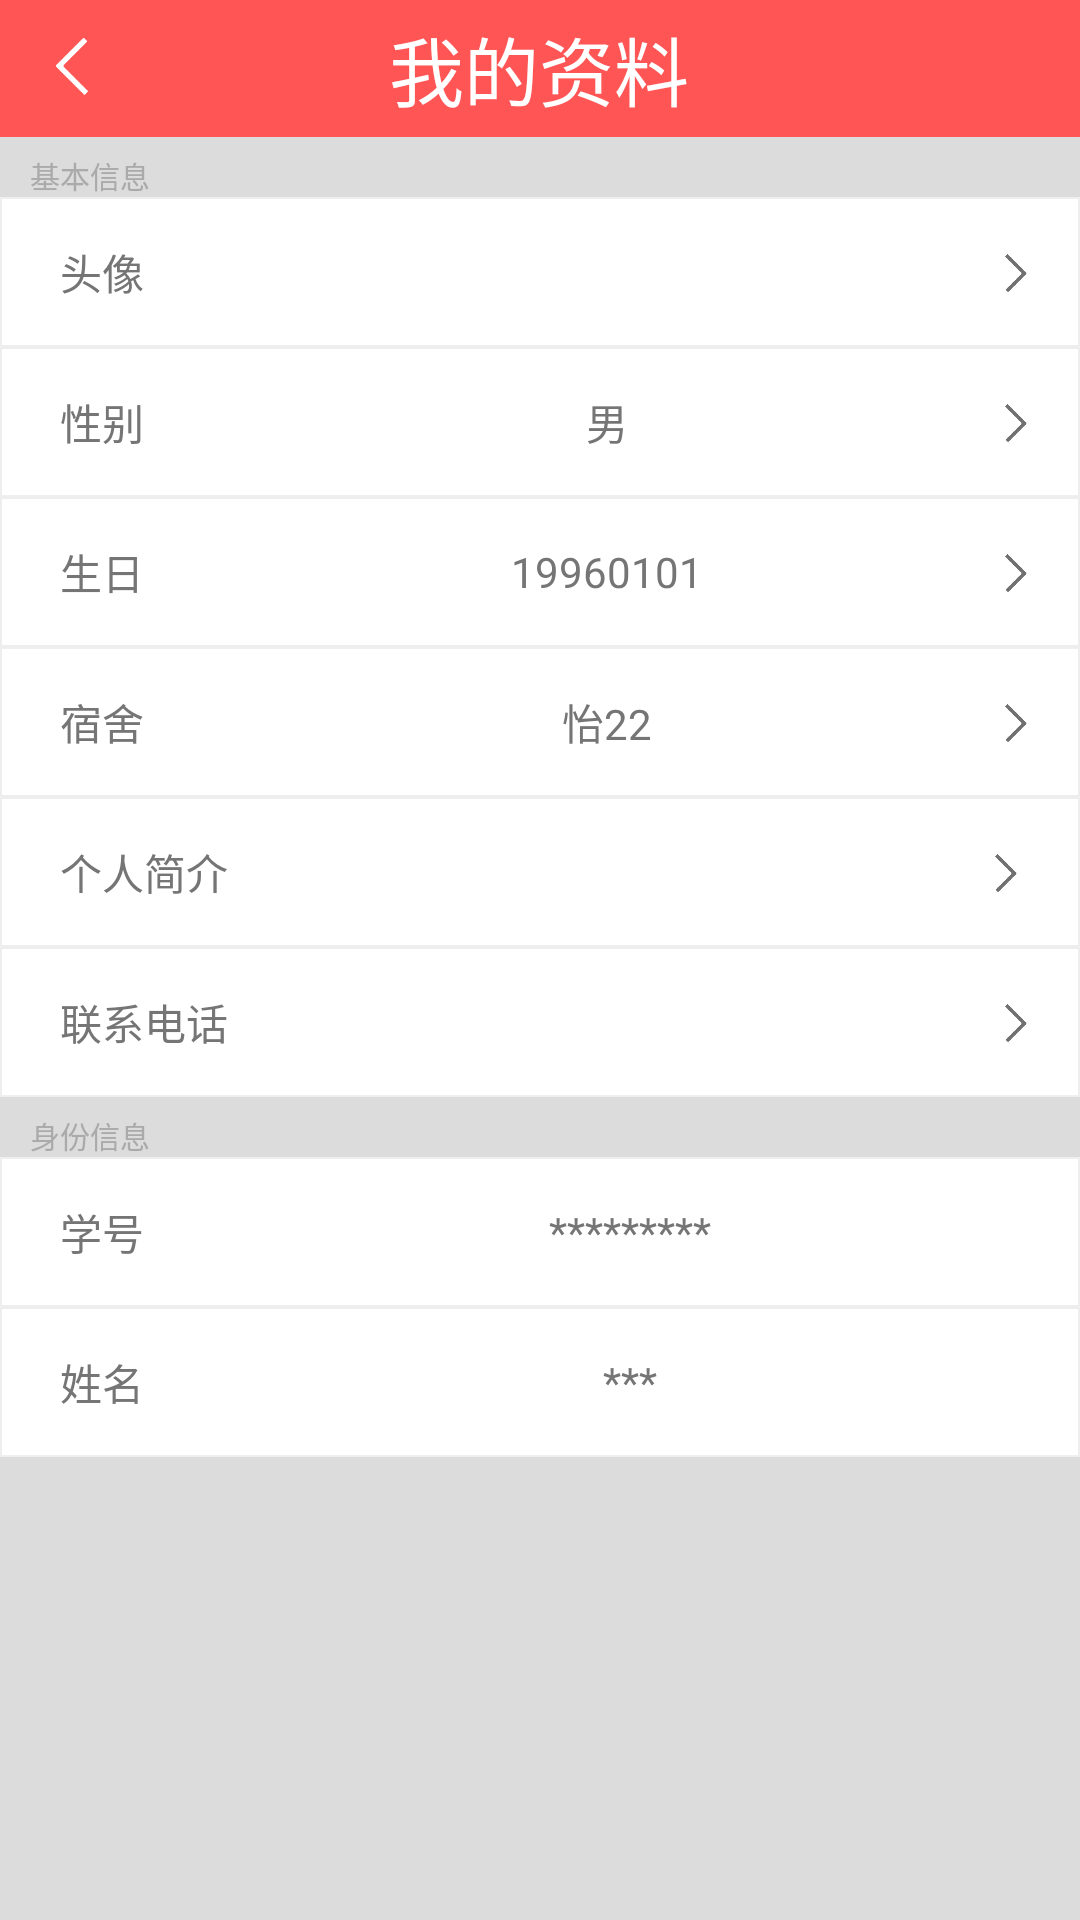

Screen size 1080x1920. Icon name, then its center in pixels as (x,y):
jiantou: (1016,273), (1016,423), (1016,573), (1016,723), (1006,873), (1016,1023)
jiantou left: (72,66)
